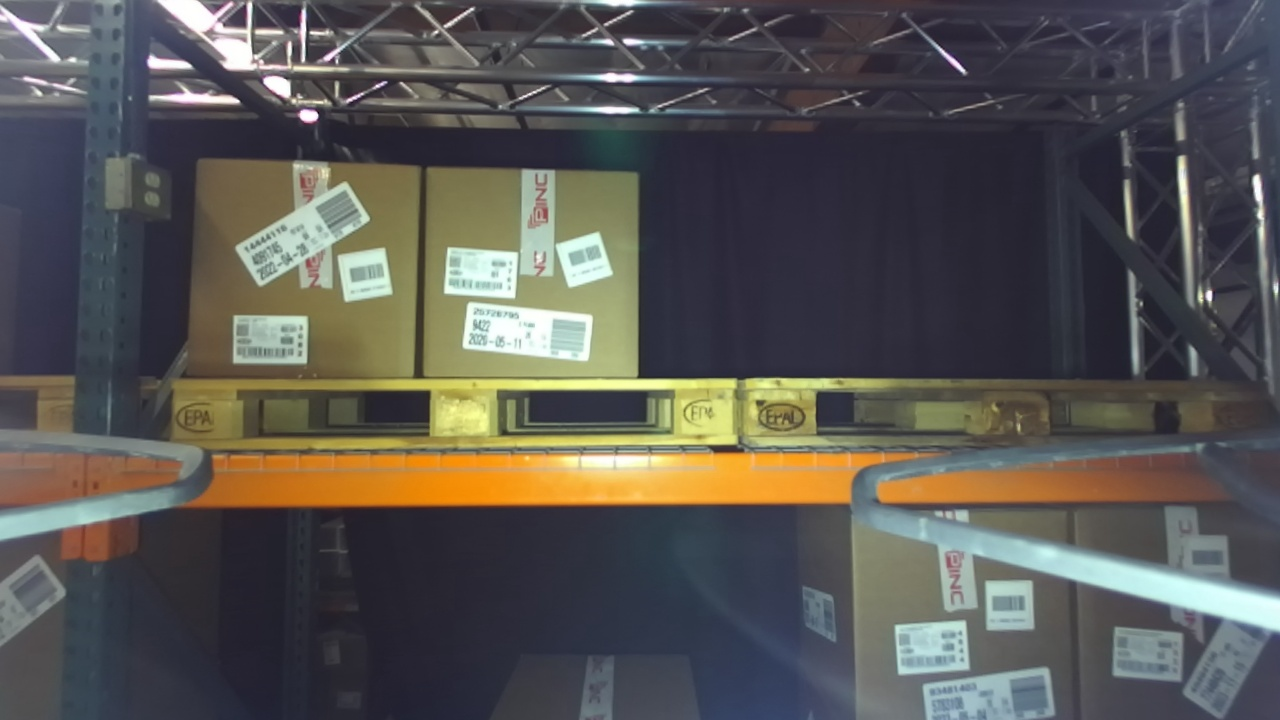box: (165, 126, 452, 399), (400, 139, 674, 410), (814, 487, 1092, 720), (1059, 485, 1280, 720)
